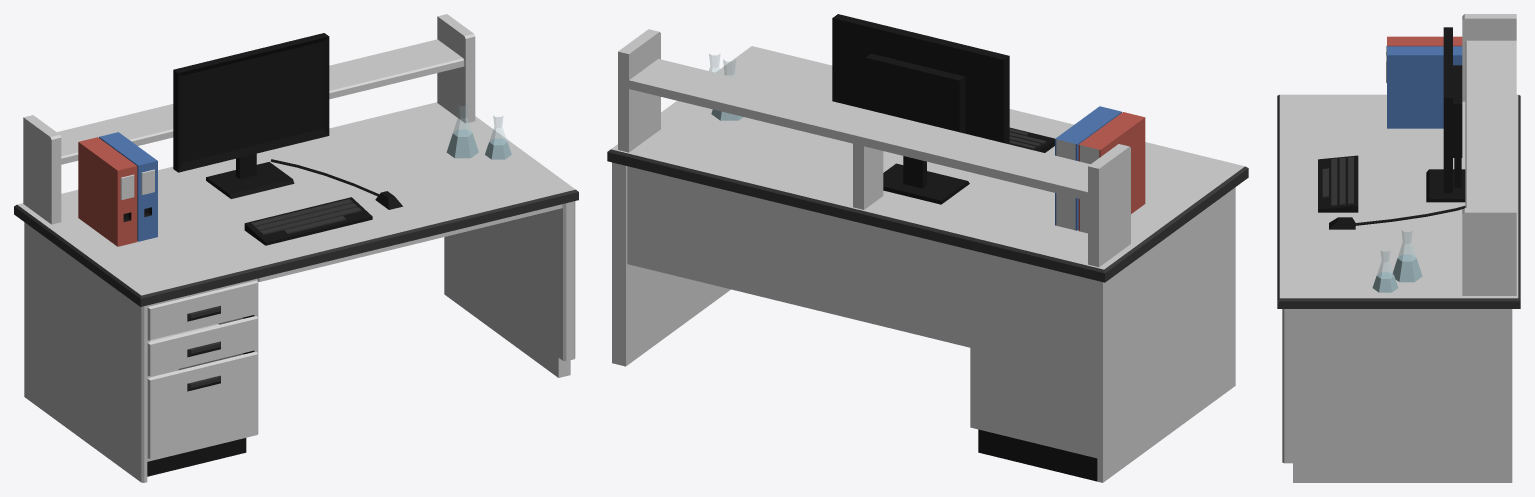
Rendered from write-up-desk-38763a.glb.
The picture shows the model from 3 angles, left to right: view 1: azimuth 30°, elevation 25°; view 2: azimuth 150°, elevation 25°; view 3: azimuth 270°, elevation 25°; orthographic projection. The views are drawn at different scales.
Visible parts, largest first — view 1: desk, equipment-mesh, drawer-file-mesh, dressing-mesh, drawer-middle-mesh, drawer-top-mesh, flask-glass; view 2: desk, equipment-mesh, dressing-mesh; view 3: desk, equipment-mesh, dressing-mesh, flask-glass.
Part boxes in pixels (x1,y1,x2,y2): desk: (14,14,578,482); equipment-mesh: (173,33,402,245); drawer-file-mesh: (147,352,257,458); dressing-mesh: (78,129,511,246); drawer-middle-mesh: (147,316,257,375); drawer-top-mesh: (147,280,257,340); flask-glass: (453,104,507,144); desk: (607,29,1248,482); equipment-mesh: (832,14,1054,204); dressing-mesh: (711,106,1145,233); desk: (1277,14,1520,482); equipment-mesh: (1318,27,1465,229); dressing-mesh: (1372,36,1462,292); flask-glass: (1377,230,1416,278).
Size of the model in its own units: 1.8 by 1.26 by 0.9.
